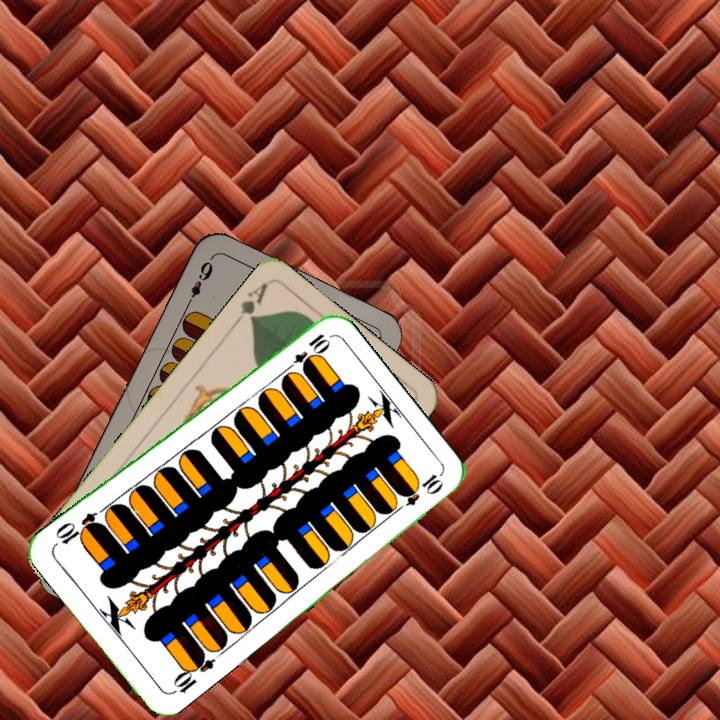E10: (166, 648, 217, 698), (281, 329, 333, 377)
E9: (182, 257, 216, 309)
GA: (228, 278, 271, 329)
